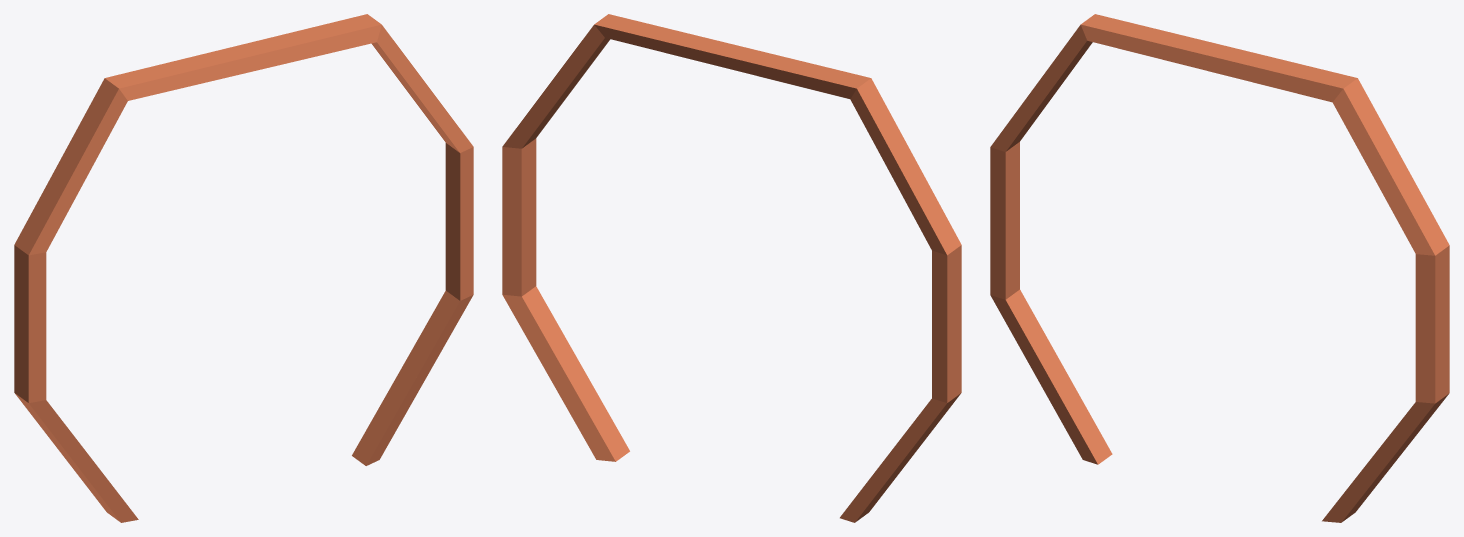
The model's file is mt_door.glb.
The picture shows the model from 3 angles, left to right: view 1: azimuth 30°, elevation 25°; view 2: azimuth 150°, elevation 25°; view 3: azimuth 330°, elevation 25°; orthographic projection.
Parts seen in each view (by area): view 1: site19_passage; view 2: site19_passage; view 3: site19_passage.
Part boxes in pixels (bbox=[...]): site19_passage: bbox=[14, 14, 473, 522]; site19_passage: bbox=[502, 14, 961, 522]; site19_passage: bbox=[990, 14, 1449, 522].
Size of the model in its own units: 5.71 by 5.33 by 0.3867.
